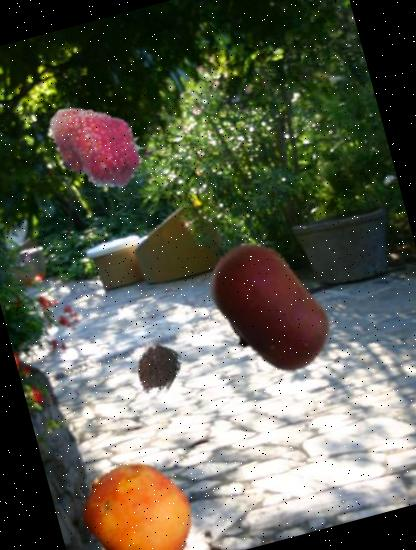Nectarine: (186, 222, 356, 392)
Peach: (69, 449, 206, 550)
Rambutan: (124, 336, 188, 402)
Strawberry: (32, 81, 159, 208)
